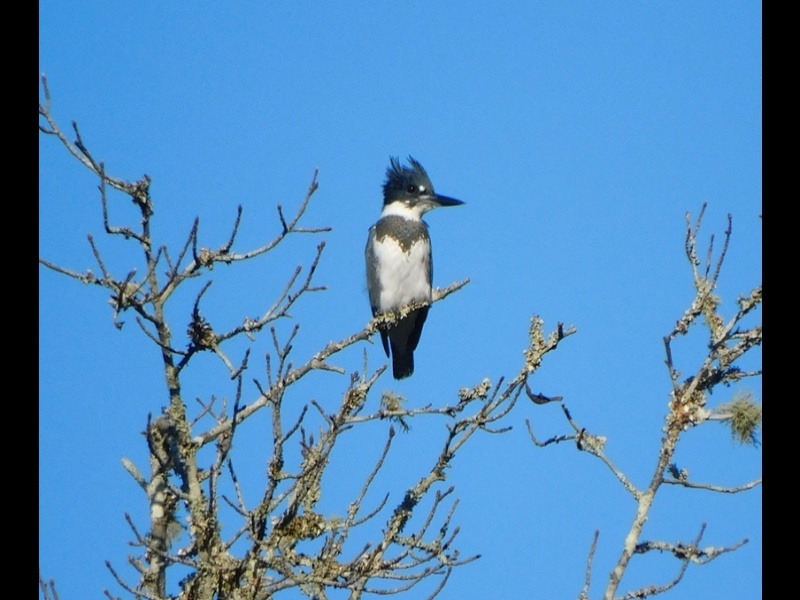kingfisher: (360, 151, 465, 380)
